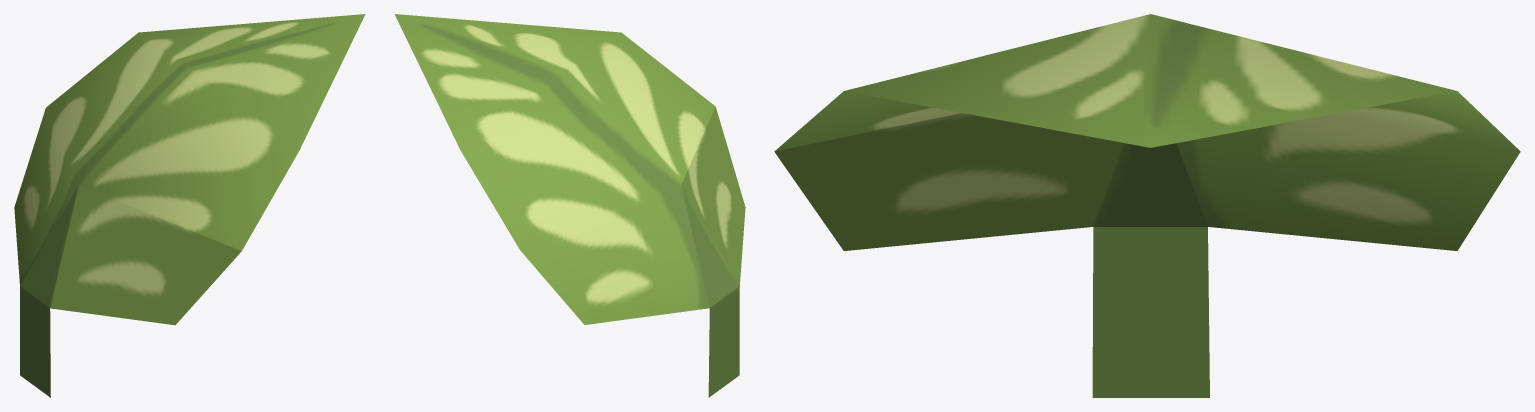
The model's file is folhaGrande01.FBX.
3 renders of one model, left to right at view 1: azimuth 30°, elevation 25°; view 2: azimuth 150°, elevation 25°; view 3: azimuth 270°, elevation 25°, orthographic. The views are drawn at different scales.
Parts seen in each view (by area): view 1: folhaGrande01; view 2: folhaGrande01; view 3: folhaGrande01.
Boxes of the visible parts, left/top/right/bottom form: folhaGrande01: left=14, top=14, right=365, bottom=397; folhaGrande01: left=394, top=14, right=745, bottom=397; folhaGrande01: left=774, top=14, right=1520, bottom=397.
Bounding box in the file's own units: 44.31 × 37.44 × 45.5.
